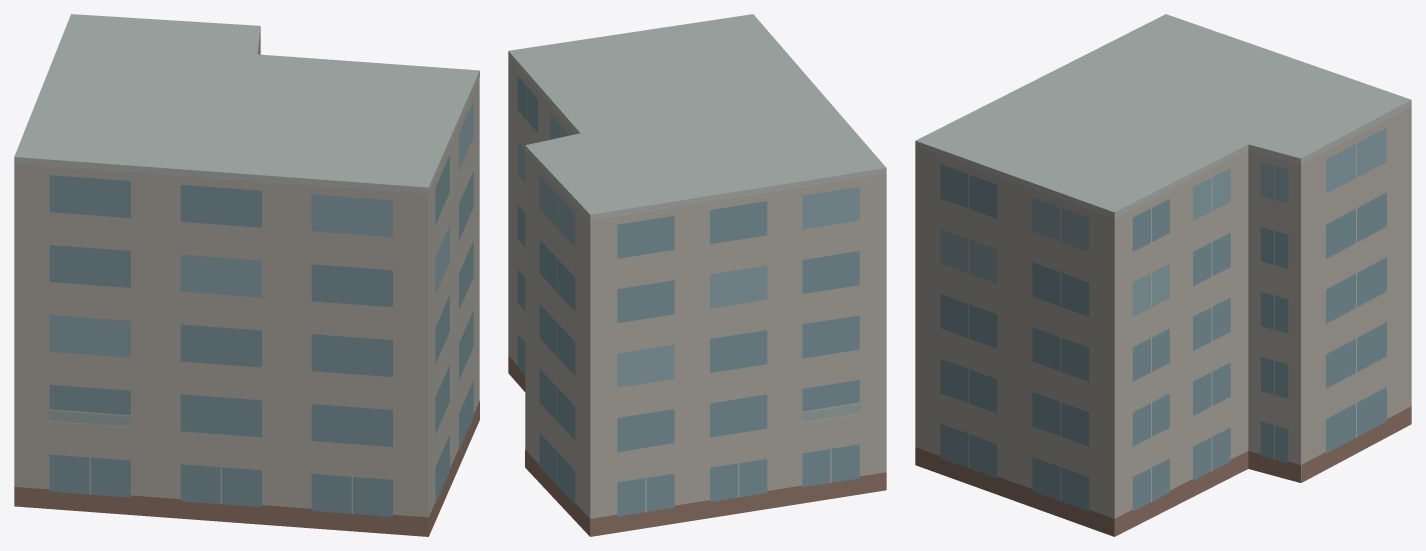
File: survey-upis-32881771.glb
The picture shows the model from 3 angles, left to right: view 1: azimuth 30°, elevation 25°; view 2: azimuth 150°, elevation 25°; view 3: azimuth 270°, elevation 25°; orthographic projection. The views are drawn at different scales.
Parts seen in each view (by area): view 1: survey-upis-32881771.tmp; view 2: survey-upis-32881771.tmp; view 3: survey-upis-32881771.tmp.
Boxes of the visible parts, x1,y1,x2,y2 form: survey-upis-32881771.tmp: [14, 14, 479, 536]; survey-upis-32881771.tmp: [508, 14, 886, 536]; survey-upis-32881771.tmp: [915, 14, 1411, 536].
Size of the model in its own units: 16.41 by 12.5 by 17.34.
